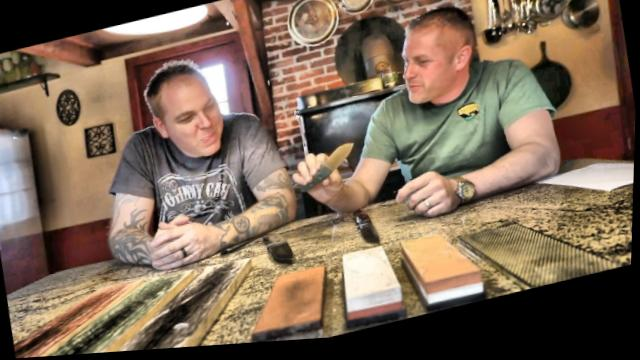knife: (292, 140, 365, 197)
